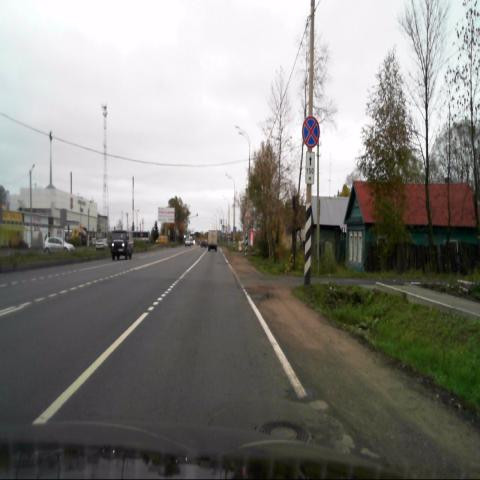8_2_2: (304, 151, 314, 185)
